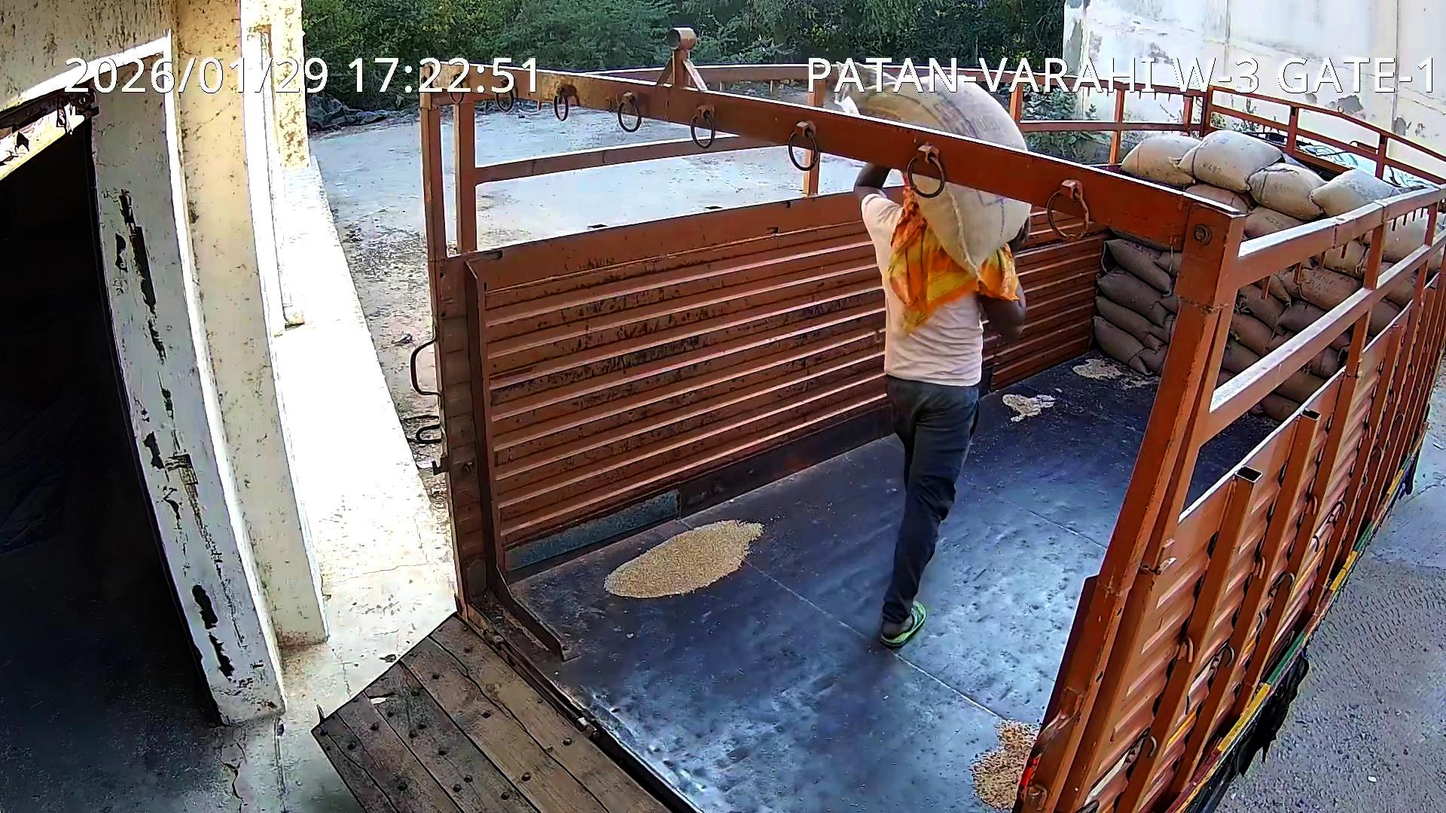Sack: (840, 75, 1027, 151), (921, 162, 1030, 262)
